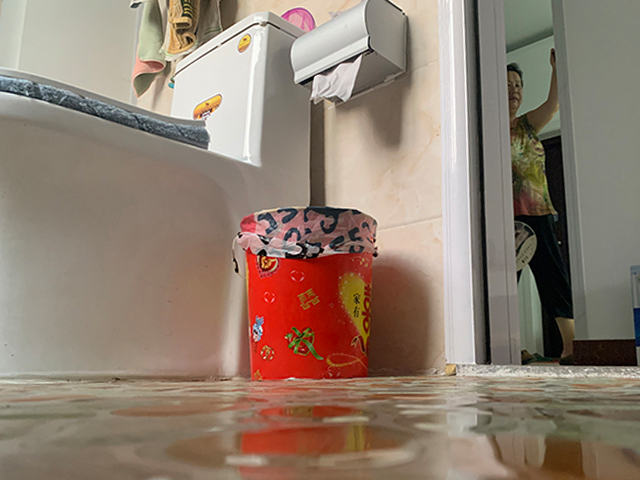closestool: (1, 9, 311, 380)
trashcan: (240, 205, 378, 381)
